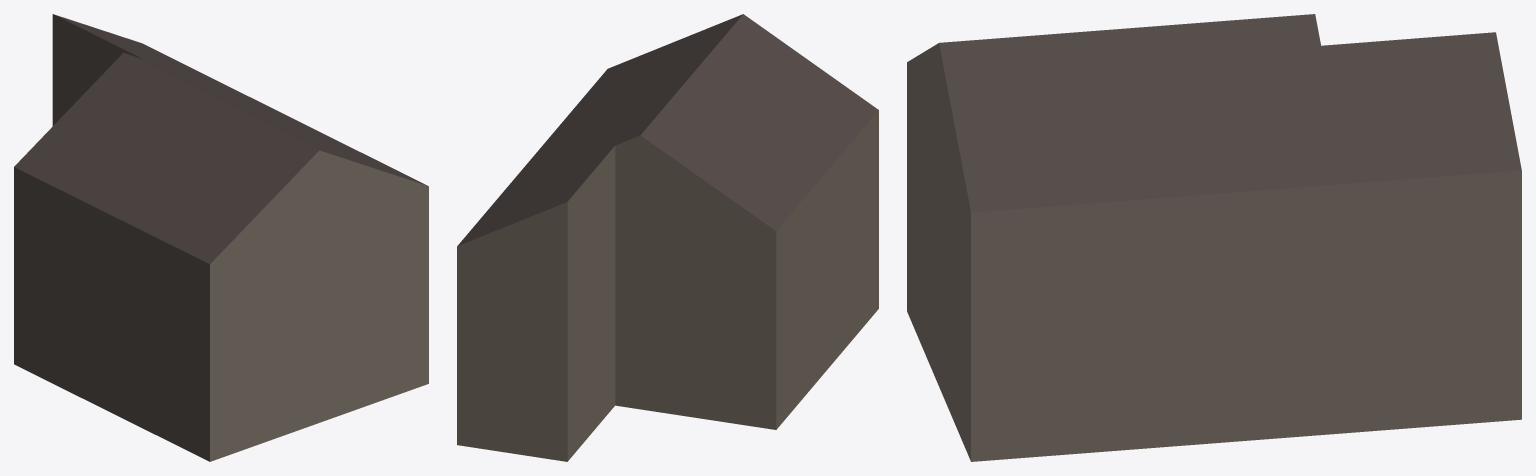
3 renders of one model, left to right at view 1: azimuth 30°, elevation 25°; view 2: azimuth 150°, elevation 25°; view 3: azimuth 270°, elevation 25°, orthographic. The views are drawn at different scales.
Visible parts, largest first — view 1: HP-w1376988678; view 2: HP-w1376988678; view 3: HP-w1376988678.
Part boxes in pixels (left/top/right/bottom): HP-w1376988678: left=14, top=14, right=428, bottom=461; HP-w1376988678: left=457, top=14, right=878, bottom=461; HP-w1376988678: left=907, top=14, right=1521, bottom=461.
Bounding box in the file's own units: 9.26 × 8.28 × 13.42.
